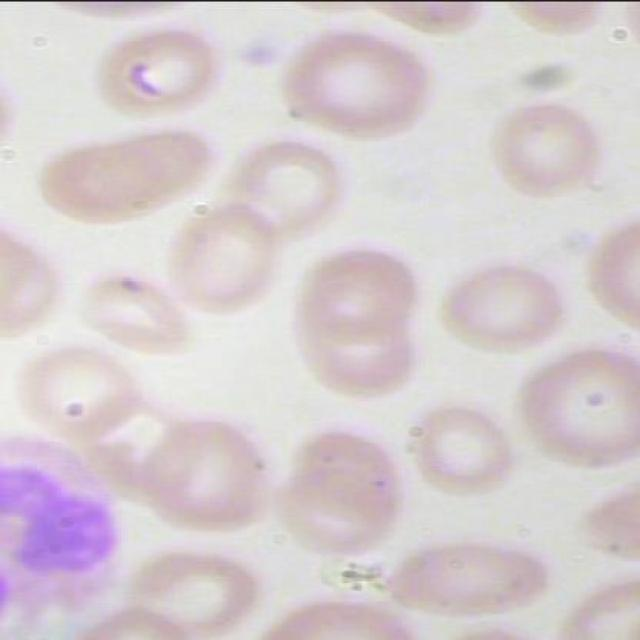RBC: (271, 27, 447, 144), (514, 329, 638, 482), (101, 14, 237, 131), (160, 200, 295, 317), (221, 133, 356, 250), (16, 332, 146, 452), (146, 416, 274, 536), (435, 250, 568, 358), (299, 238, 432, 345), (79, 259, 212, 366), (387, 538, 556, 620), (294, 318, 426, 412), (402, 401, 516, 507), (286, 425, 409, 523), (273, 470, 396, 568), (491, 101, 607, 196), (104, 121, 219, 216), (34, 135, 149, 230)
WBC: (1, 418, 124, 620)
